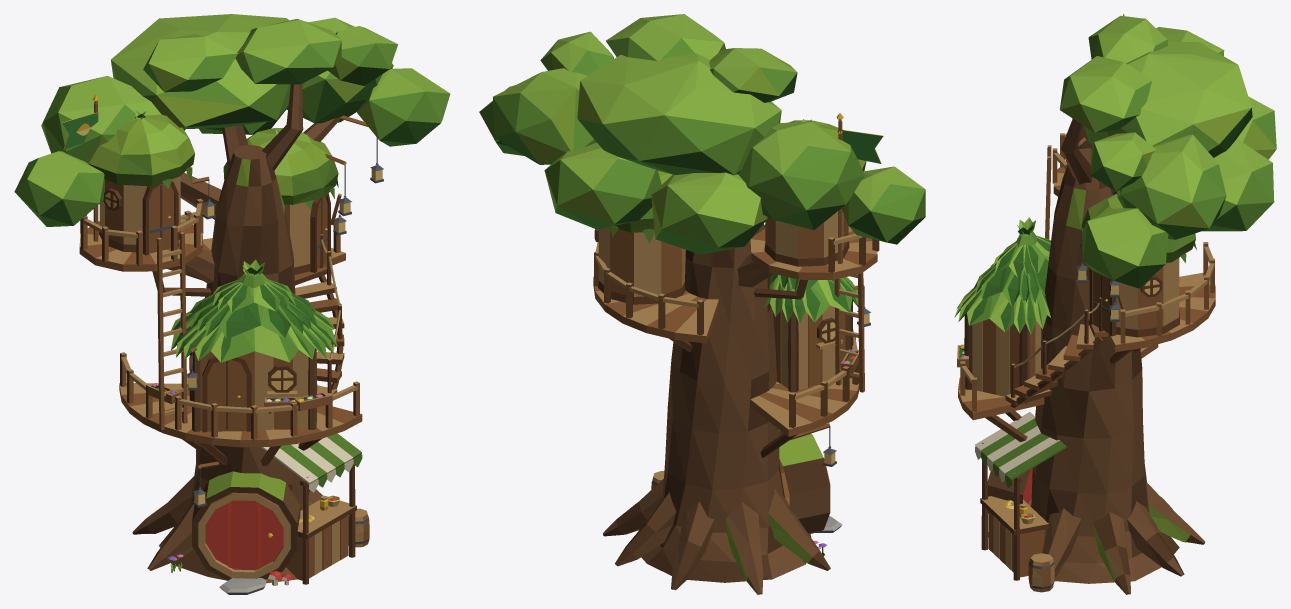
The model's file is home_tree_5.glb.
3 renders of one model, left to right at view 1: azimuth 30°, elevation 25°; view 2: azimuth 150°, elevation 25°; view 3: azimuth 270°, elevation 25°, orthographic. The views are drawn at different scales.
Parts seen in each view (by area): view 1: home_tree_5, glow, banner; view 2: home_tree_5, banner; view 3: home_tree_5.
Part boxes in pixels (box(x1,y1,x2,y2)): home_tree_5: box(14, 14, 450, 594); glow: box(105, 169, 382, 504); banner: box(62, 112, 98, 149); home_tree_5: box(479, 14, 925, 594); banner: box(837, 130, 883, 163); home_tree_5: box(954, 15, 1276, 594).
Bounding box in the file's own units: 7.44 × 8.43 × 4.92.
